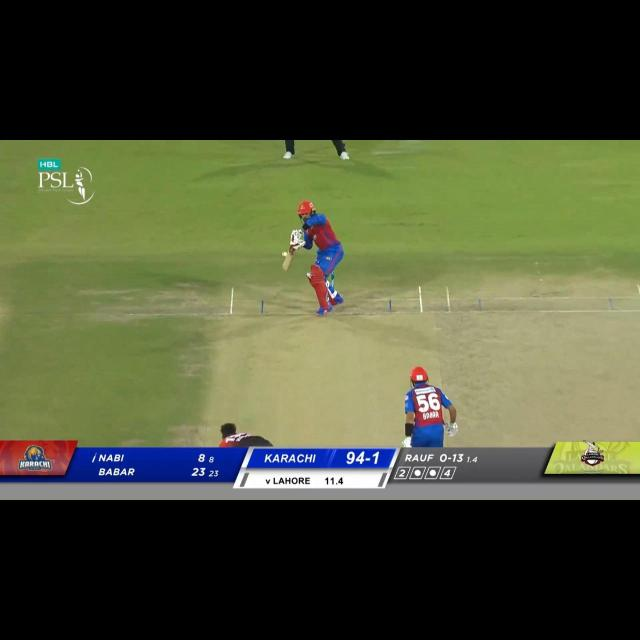bat: (281, 247, 293, 272)
toe: (281, 266, 288, 272)
